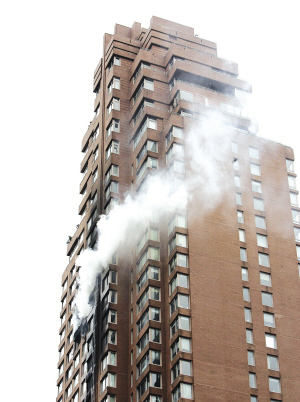smoke: (81, 214, 110, 318)
